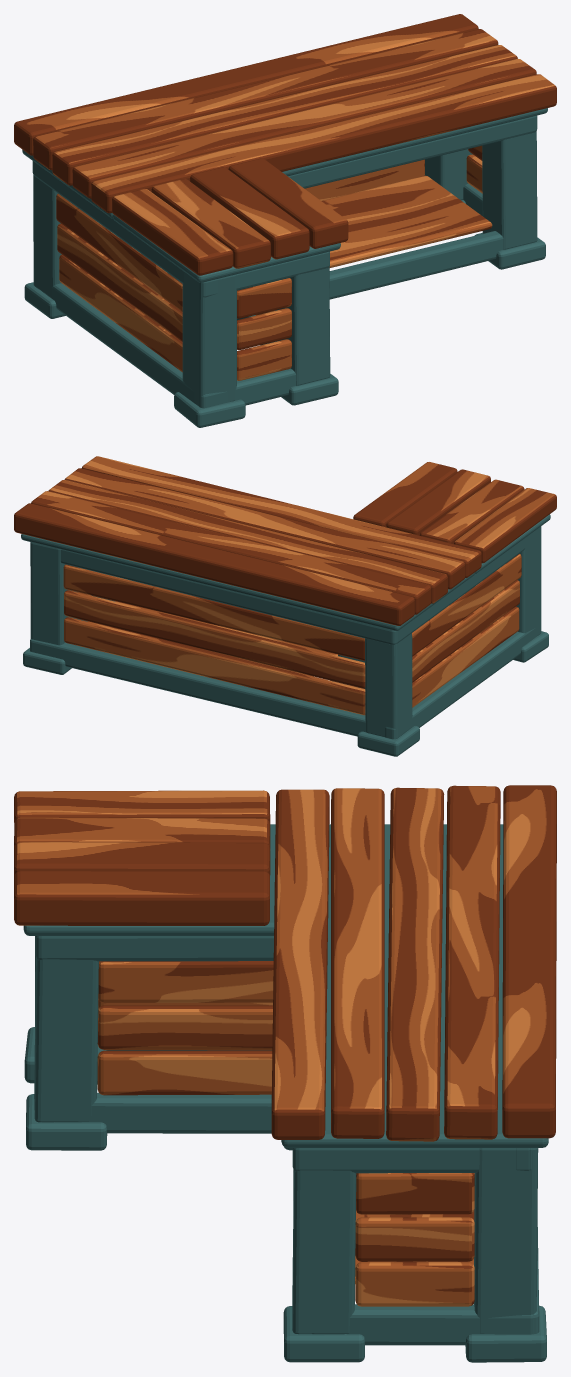
The model's file is prop_counter_table.fbx.
3 views of the same model, one above another, from view 1: azimuth 30°, elevation 25°; view 2: azimuth 150°, elevation 25°; view 3: azimuth 270°, elevation 25° (orthographic). The views are drawn at different scales.
Parts seen in each view (by area): view 1: CounterTable; view 2: CounterTable; view 3: CounterTable.
Part boxes in pixels (<box>): CounterTable: <box>14,14,556,427</box>; CounterTable: <box>14,456,556,756</box>; CounterTable: <box>14,785,556,1362</box>.
Bounding box in the file's own units: 1.6 × 0.6085 × 1.14.
